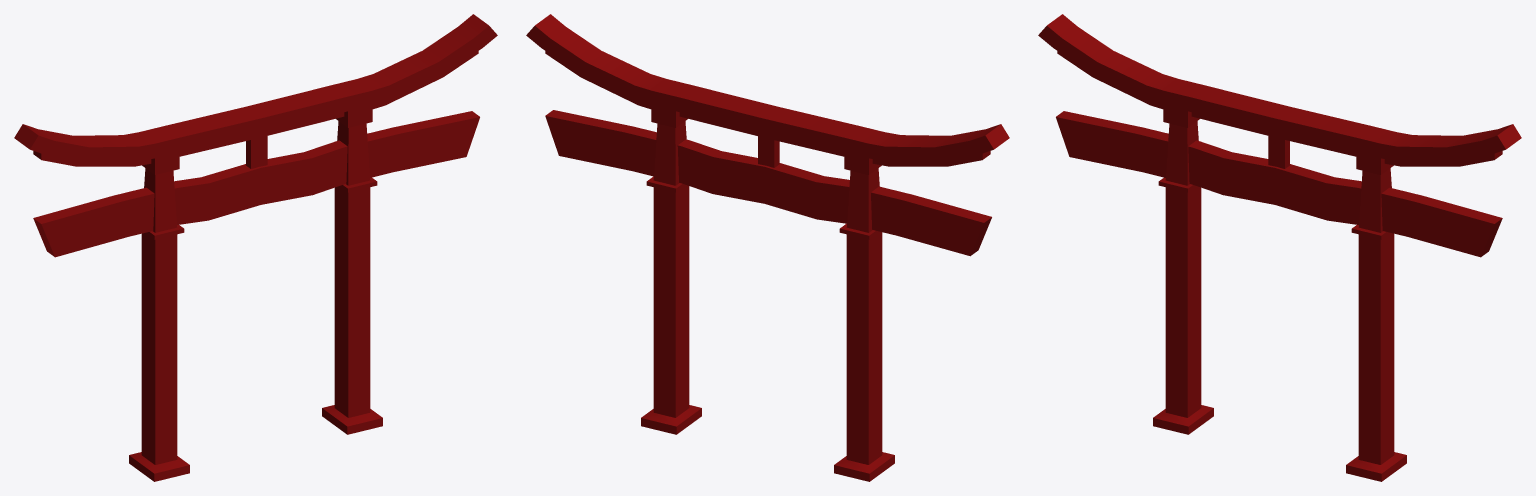
Rendered from Torii.fbx.
3 renders of one model, left to right at view 1: azimuth 30°, elevation 25°; view 2: azimuth 150°, elevation 25°; view 3: azimuth 330°, elevation 25°, orthographic.
Visible parts, largest first — view 1: torii; view 2: torii; view 3: torii.
Boxes of the visible parts, bbox=[...] form: torii: bbox=[14, 14, 497, 481]; torii: bbox=[526, 14, 1009, 481]; torii: bbox=[1038, 14, 1521, 481].
Size of the model in its own units: 771 by 582 by 72.62.
